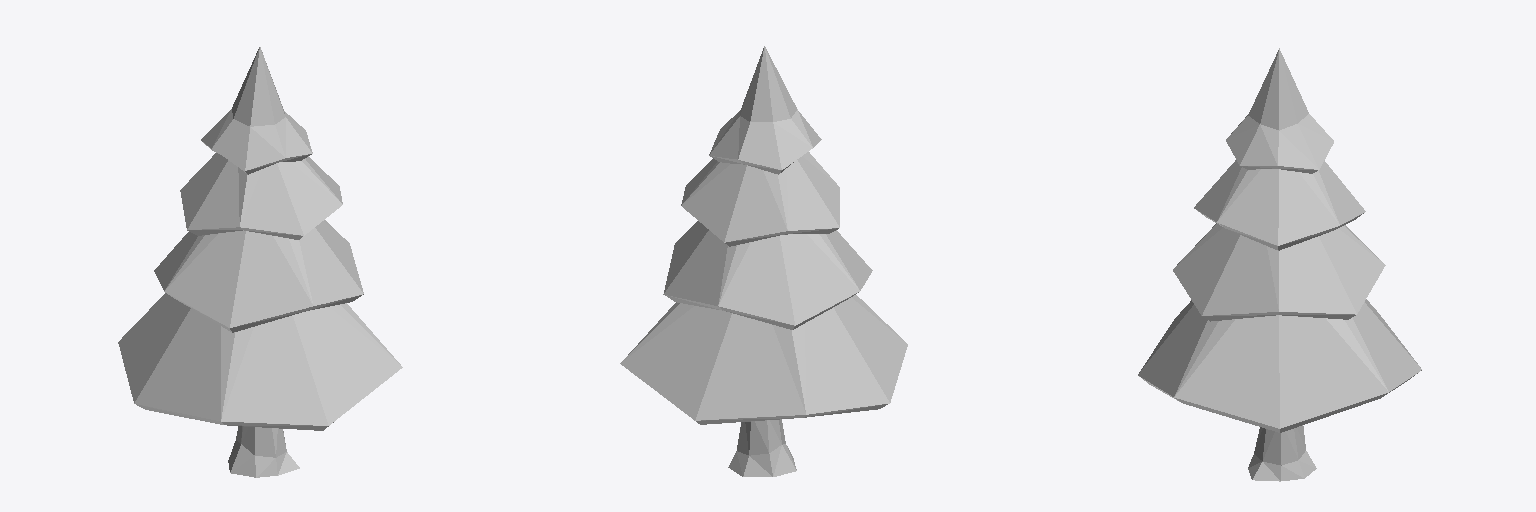
The model's file is forest-tree.obj.
3 renders of one model, left to right at view 1: azimuth 30°, elevation 25°; view 2: azimuth 150°, elevation 25°; view 3: azimuth 270°, elevation 25°, orthographic.
Visible parts, largest first — view 1: Tree_Spruce_small_02_Cylinder.003; view 2: Tree_Spruce_small_02_Cylinder.003; view 3: Tree_Spruce_small_02_Cylinder.003.
Part boxes in pixels (bbox=[...]): Tree_Spruce_small_02_Cylinder.003: bbox=[118, 47, 402, 477]; Tree_Spruce_small_02_Cylinder.003: bbox=[620, 46, 907, 476]; Tree_Spruce_small_02_Cylinder.003: bbox=[1138, 48, 1421, 481].
Size of the model in its own units: 11.12 by 18.25 by 11.24.